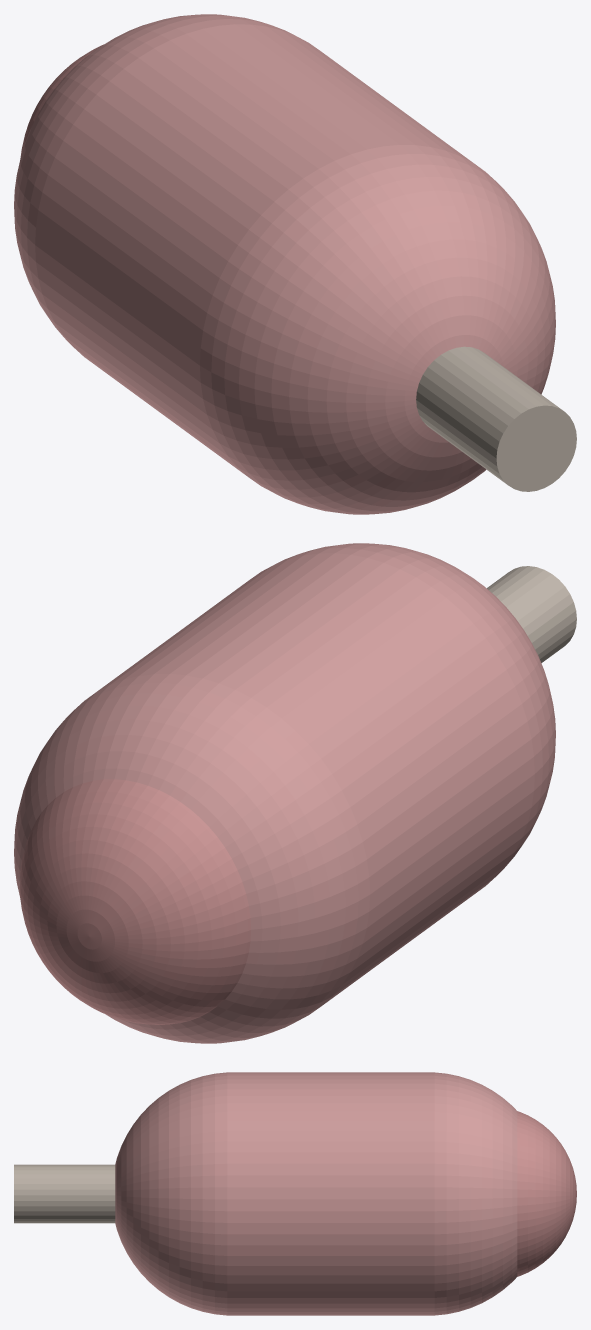
The model's file is pituitary.glb.
3 views of the same model, one above another, from view 1: azimuth 30°, elevation 25°; view 2: azimuth 150°, elevation 25°; view 3: azimuth 270°, elevation 25° (orthographic). The views are drawn at different scales.
Parts seen in each view (by area): view 1: world; view 2: world; view 3: world.
Boxes of the visible parts, x1=… form: world: x1=14, y1=14, x2=576, y2=514; world: x1=14, y1=543, x2=576, y2=1043; world: x1=14, y1=1072, x2=576, y2=1315.
Bounding box in the file's own units: 0.4323 × 0.4323 × 1.
